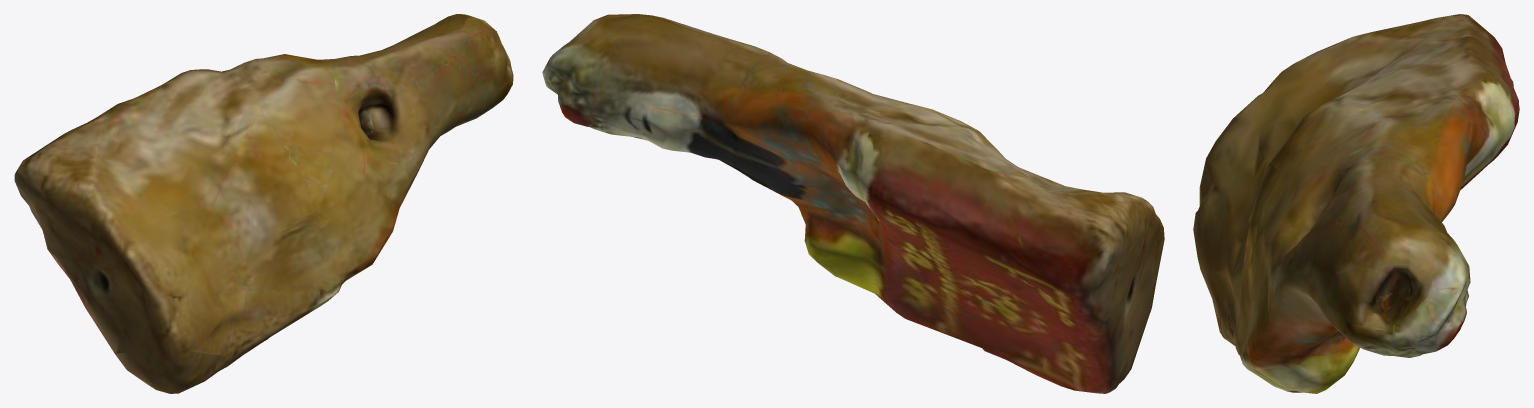
Rendered from hall.glb.
3 renders of one model, left to right at view 1: azimuth 30°, elevation 25°; view 2: azimuth 150°, elevation 25°; view 3: azimuth 270°, elevation 25°, orthographic. The views are drawn at different scales.
Size of the model in its own units: 0.9622 by 0.4944 by 0.404.
Materials: 1 (1 with a texture image).
